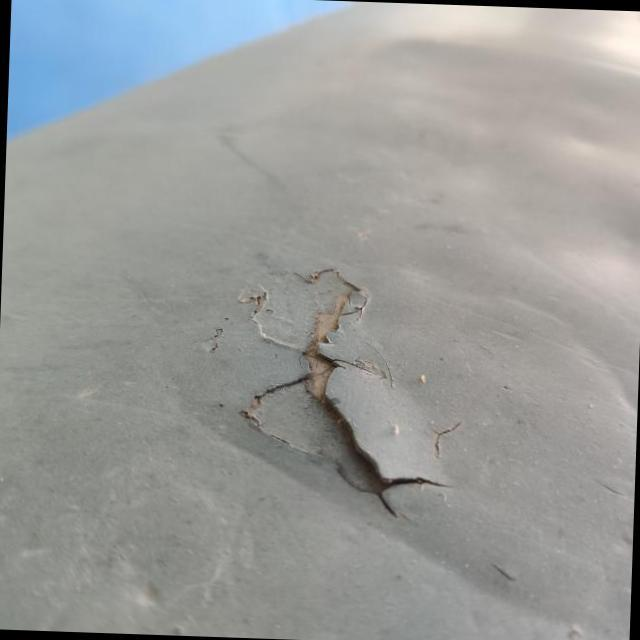Rupture: (216, 244, 469, 530)
